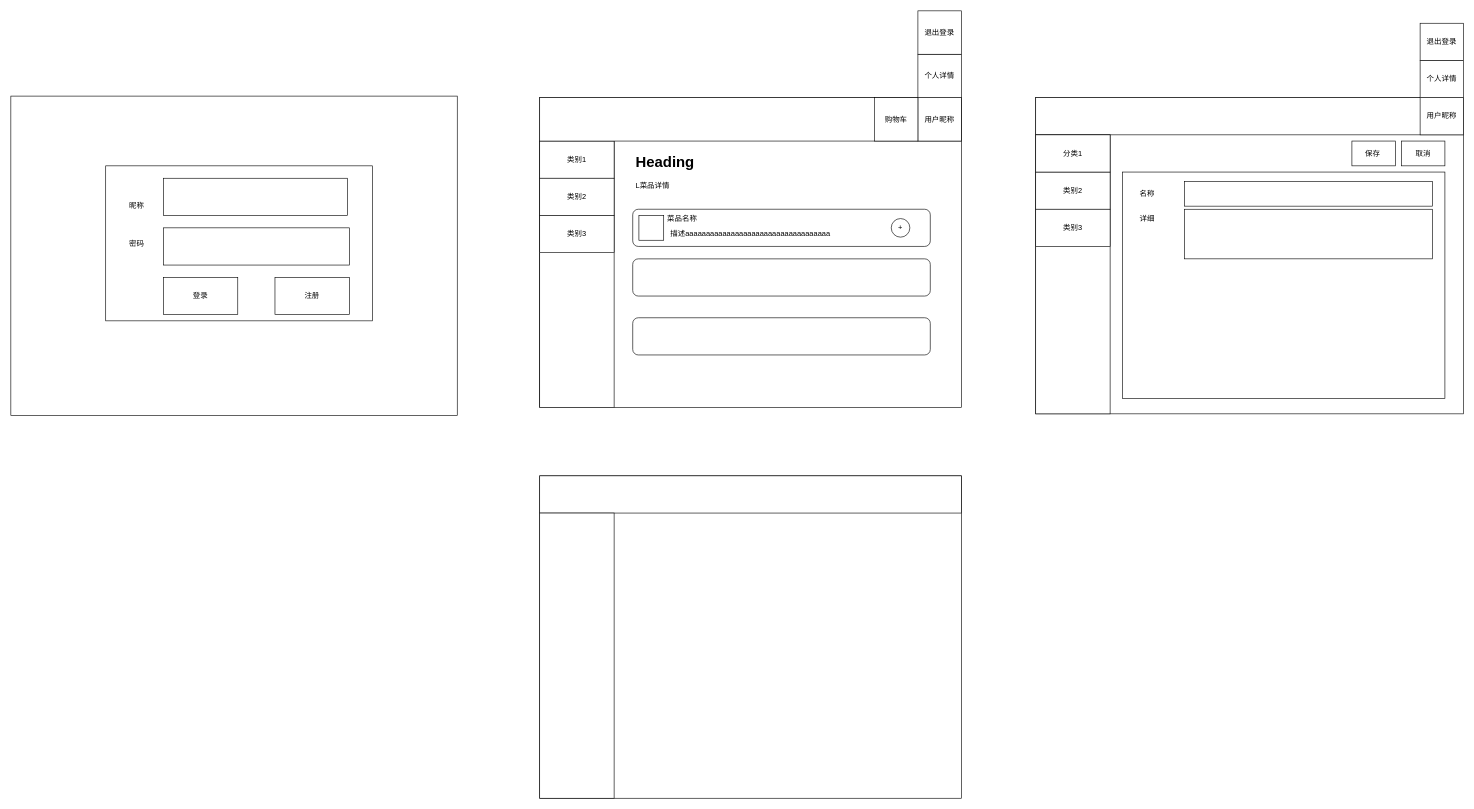
Image size: 1474x809. Some labels were removed from this diagram. The box of each missing label's shape, as (x1, y1, x2, y2) in pixels:
个人信息/user: (539, 475, 961, 513)
可滚动的，要求不超过100字: (1184, 209, 1433, 259)
商家看到的/manage/categry: (1035, 97, 1464, 135)
图片: (638, 215, 664, 240)
消费者看到的/shop: (539, 97, 961, 141)
